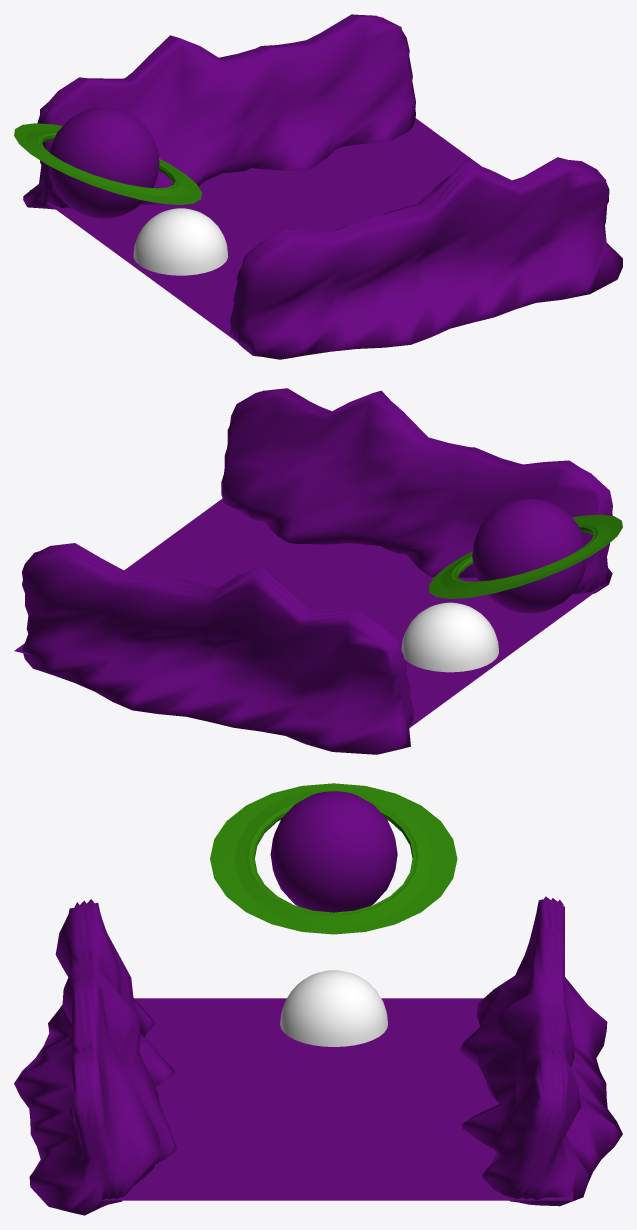
Rendered from Simple City Dome Envo By Angela Munoz.fbx.
3 renders of one model, top to bottom at view 1: azimuth 30°, elevation 25°; view 2: azimuth 150°, elevation 25°; view 3: azimuth 270°, elevation 25°, orthographic. The views are drawn at different scales.
Parts seen in each view (by area): view 1: wall left, wall right, ground, Planet, Dome, Planet rings; view 2: wall right, wall left, ground, Planet, Dome, Planet rings; view 3: ground, wall left, wall right, Planet rings, Planet, Dome.
Part boxes in pixels (left/top/right/bottom): wall left: left=230, top=157, right=622, bottom=359; wall right: left=23, top=14, right=415, bottom=209; ground: left=29, top=118, right=481, bottom=343; Planet: left=48, top=107, right=159, bottom=218; Dome: left=133, top=208, right=228, bottom=275; Planet rings: left=14, top=123, right=201, bottom=204; wall right: left=22, top=543, right=413, bottom=754; wall left: left=221, top=388, right=612, bottom=594; ground: left=14, top=498, right=605, bottom=742; Planet: left=472, top=498, right=586, bottom=613; Dome: left=401, top=602, right=498, bottom=672; Planet rings: left=428, top=514, right=622, bottom=598; ground: left=102, top=998, right=573, bottom=1200; wall left: left=14, top=899, right=176, bottom=1215; wall right: left=460, top=896, right=622, bottom=1206; Planet rings: left=210, top=783, right=457, bottom=934; Planet: left=270, top=791, right=397, bottom=912; Dome: left=280, top=970, right=387, bottom=1046.
Size of the model in its own units: 1316 by 453 by 1273.
